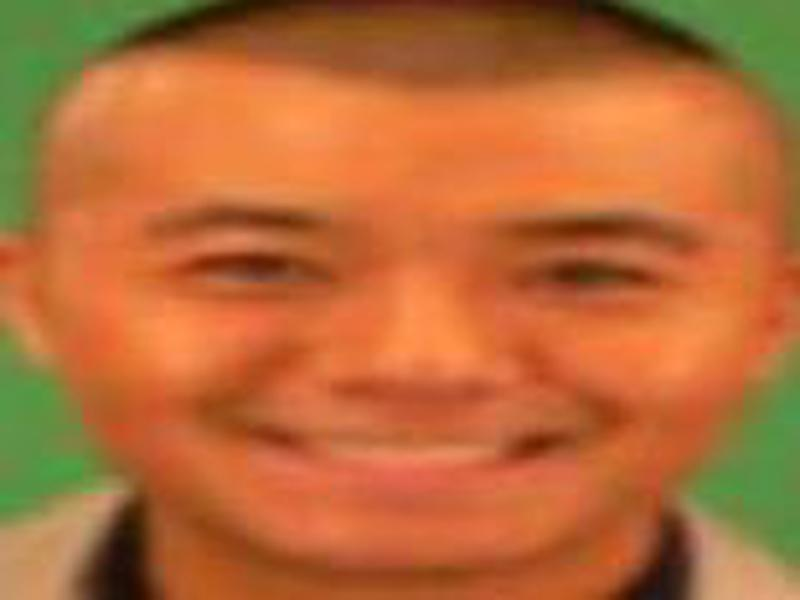without_mask: (36, 53, 774, 561)
